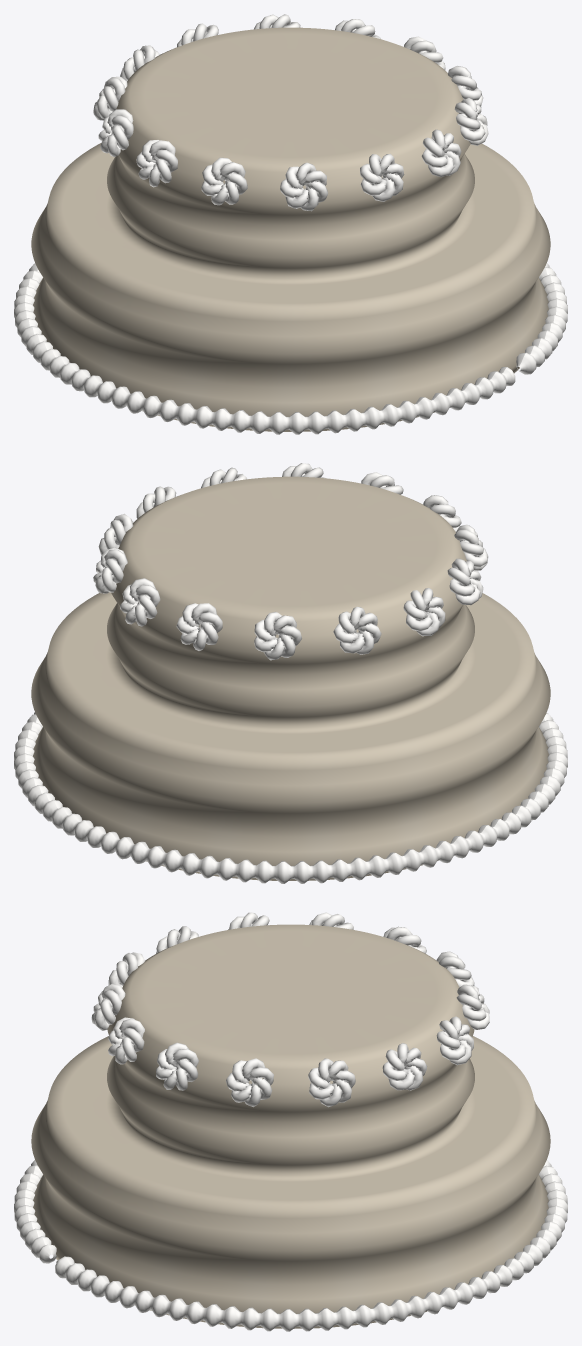
File: cake.glb
3 renders of one model, top to bottom at view 1: azimuth 30°, elevation 25°; view 2: azimuth 150°, elevation 25°; view 3: azimuth 270°, elevation 25°, orthographic.
Size of the model in its own units: 0.2933 by 0.1392 by 0.2933.
